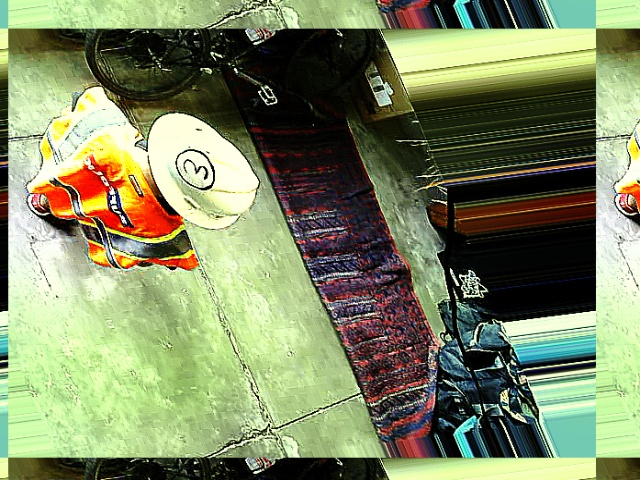three: (168, 145, 222, 192)
